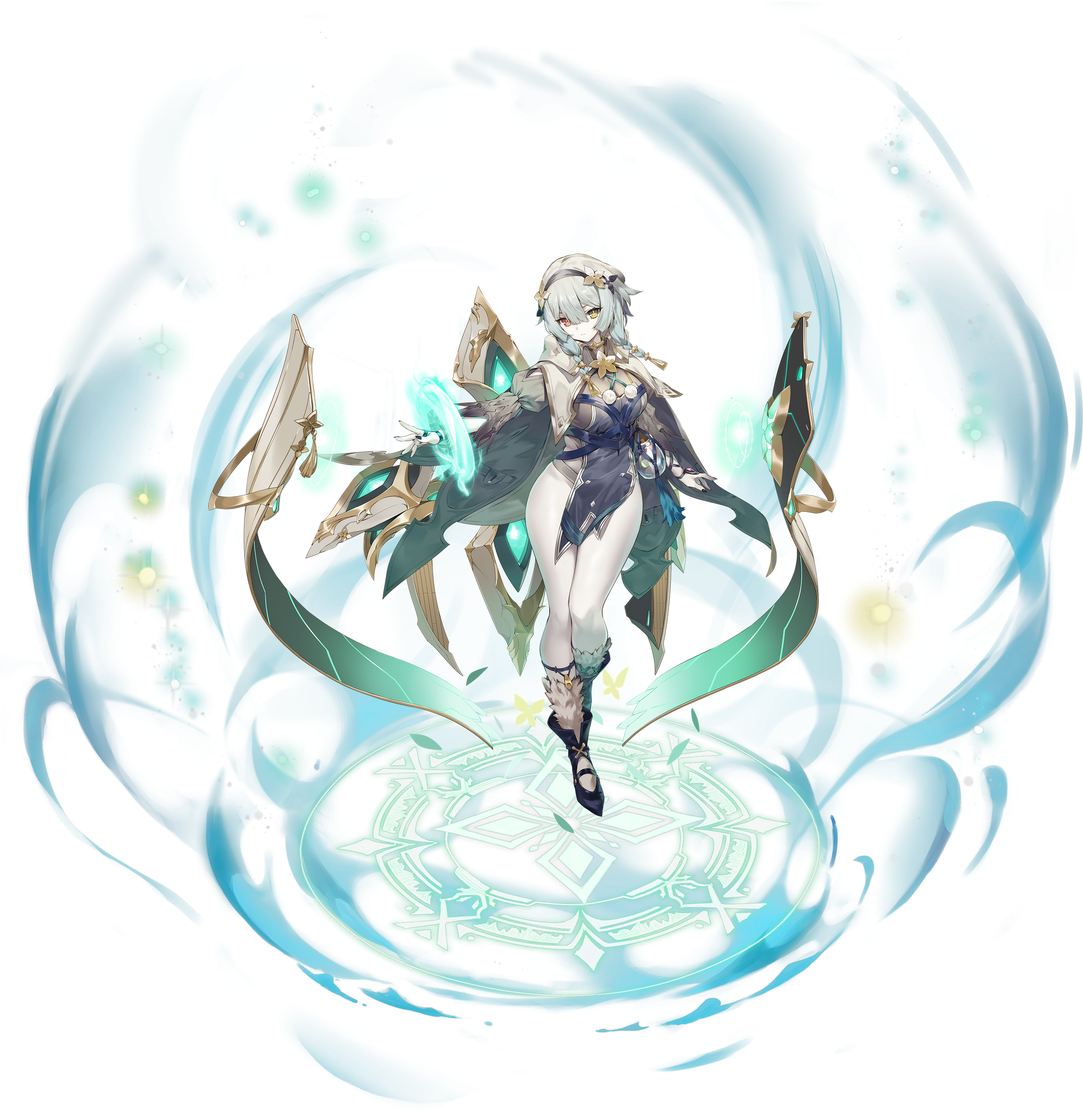person: (482, 236, 758, 841)
